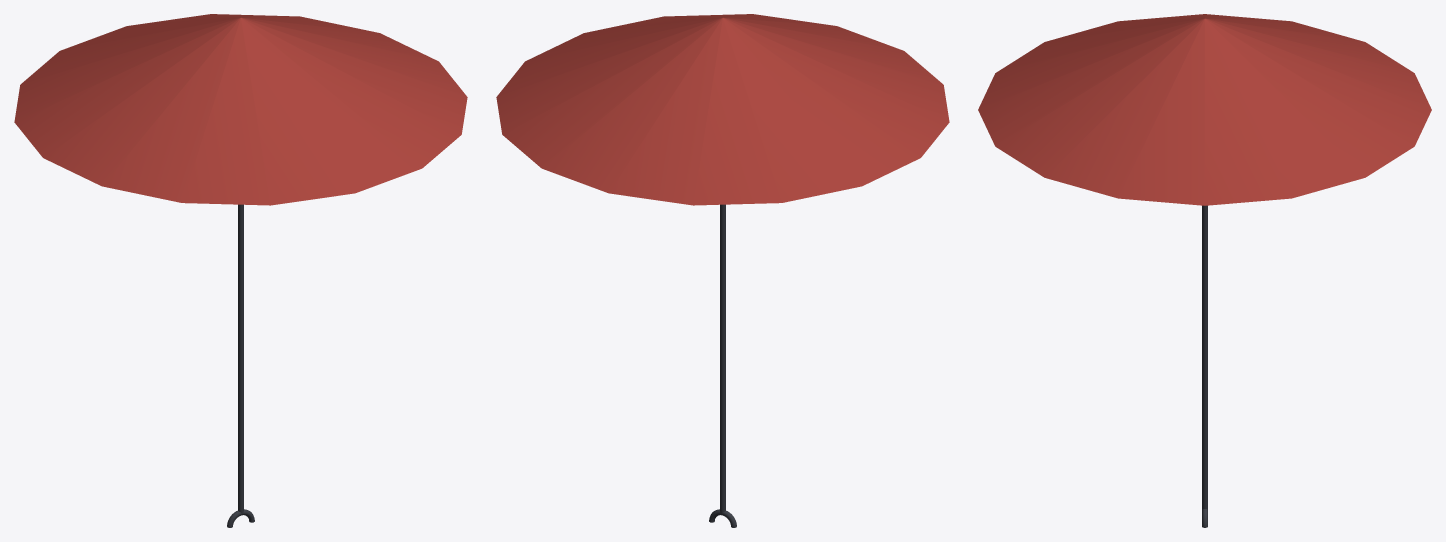
File: umbrella.glb
3 renders of one model, left to right at view 1: azimuth 30°, elevation 25°; view 2: azimuth 150°, elevation 25°; view 3: azimuth 270°, elevation 25°, orthographic.
Visible parts, largest first — view 1: cone, cyl; view 2: cone, cyl; view 3: cone, cyl.
Part boxes in pixels (left/top/right/bottom): cone: left=14, top=14, right=467, bottom=205; cyl: left=238, top=204, right=243, bottom=513; cone: left=496, top=14, right=949, bottom=205; cyl: left=720, top=204, right=725, bottom=513; cone: left=978, top=14, right=1431, bottom=205; cyl: left=1202, top=205, right=1207, bottom=509.
Size of the model in its own units: 0.9 by 1.1 by 0.9.
